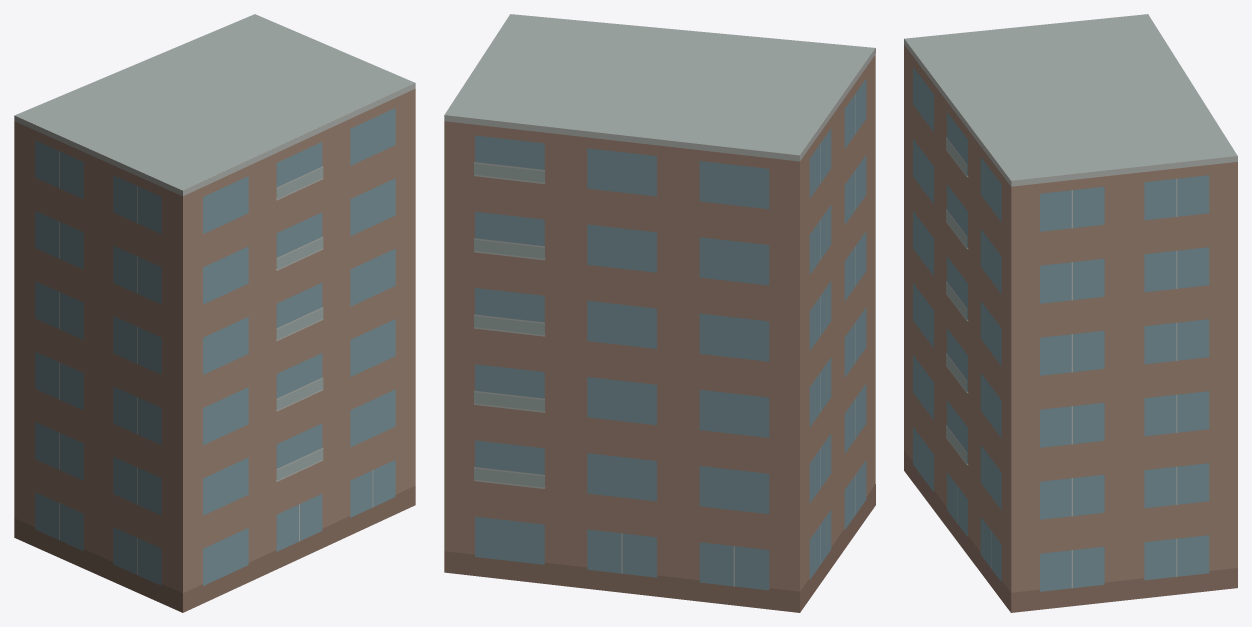
Rendered from survey-upis-32848412.glb.
3 views of the same model, side by side, from view 1: azimuth 30°, elevation 25°; view 2: azimuth 150°, elevation 25°; view 3: azimuth 270°, elevation 25° (orthographic). The views are drawn at different scales.
Visible parts, largest first — view 1: survey-upis-32848412.tmp; view 2: survey-upis-32848412.tmp; view 3: survey-upis-32848412.tmp.
Part boxes in pixels (<box>): survey-upis-32848412.tmp: <box>14,14,415,612</box>; survey-upis-32848412.tmp: <box>444,14,875,612</box>; survey-upis-32848412.tmp: <box>904,14,1237,612</box>.
Size of the model in its own units: 15.17 by 18.3 by 12.82.
